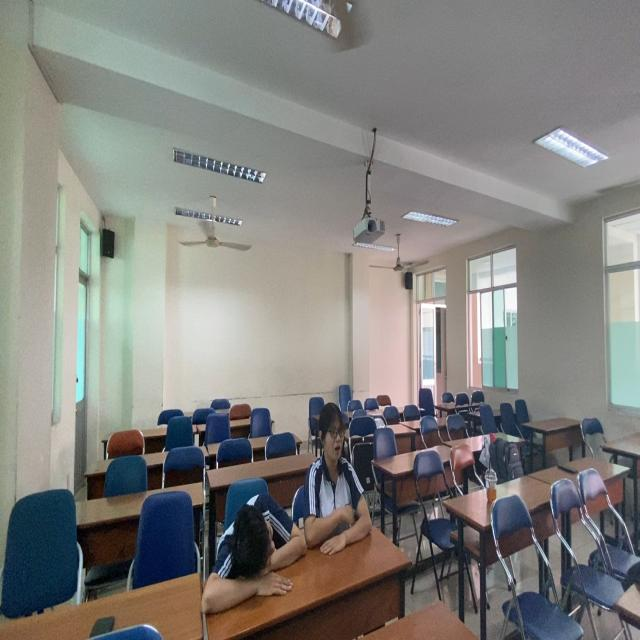sleep: (200, 488, 313, 612)
